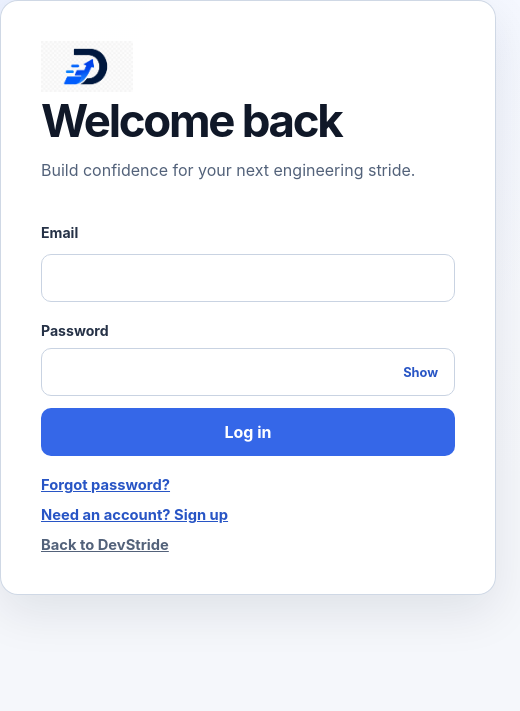
Test: AuthForm › does not navigate when the session policy cannot be established
Type "user@example.com" into the field labelled "Email" at [248, 278], box 41,254 -> 455,302
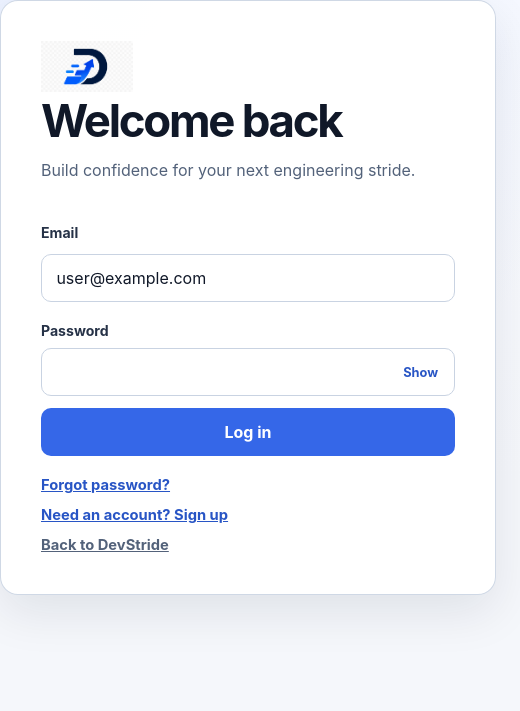
Type "password123" into the password field labelled "Password" at [248, 372], box 41,348 -> 455,396
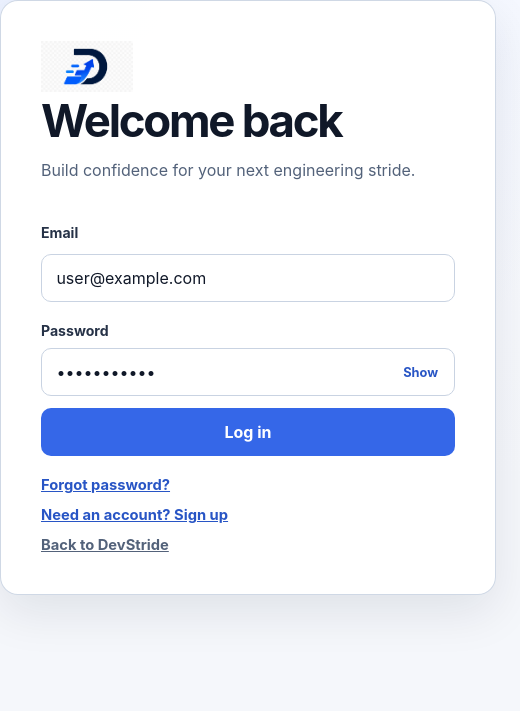
Click the button "Log in" at [248, 432], box 41,408 -> 455,456
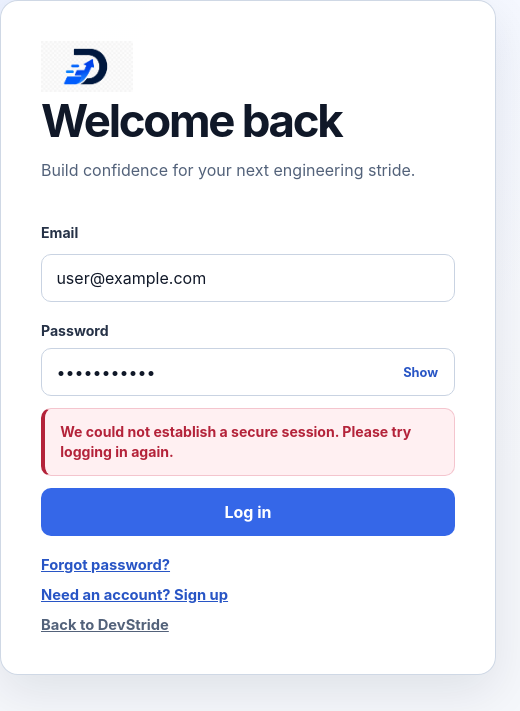
Expected: the message shows "secure session", 60,423 -> 411,460
